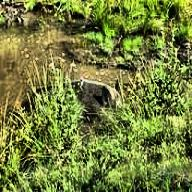boar: (20, 77, 124, 124)
